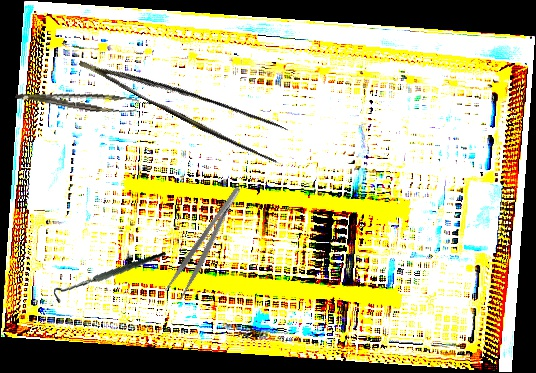Dressing Forceps: (162, 184, 253, 302)
Hook Surgical: (51, 237, 167, 318)
Tissue Forceps: (78, 28, 297, 171), (15, 78, 139, 120)
